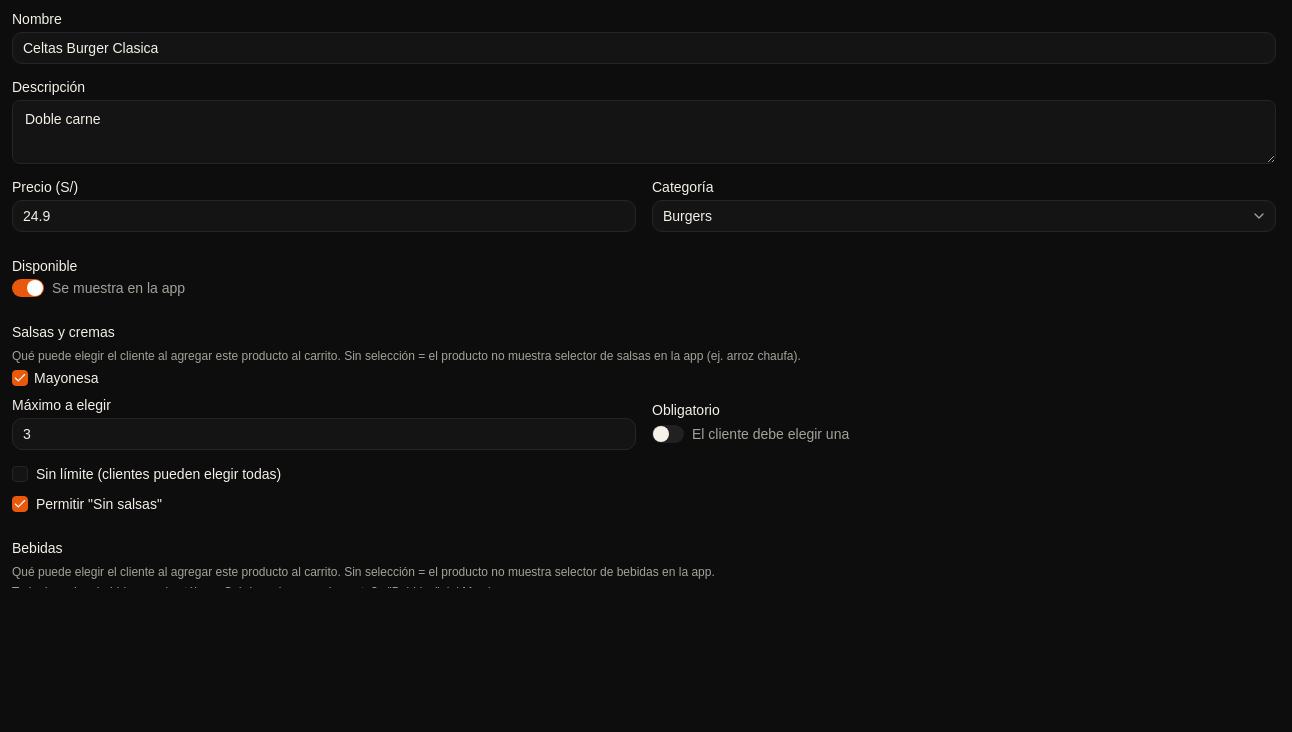
Test: ItemForm - salsas "Sin límite" › alternar el checkbox deshabilita/habilita el input
Step 1. Click the checkbox named "Sin límite (clientes pueden elegir todas)" below "Máximo a elegir" → (20, 474), box [12,466,28,482]
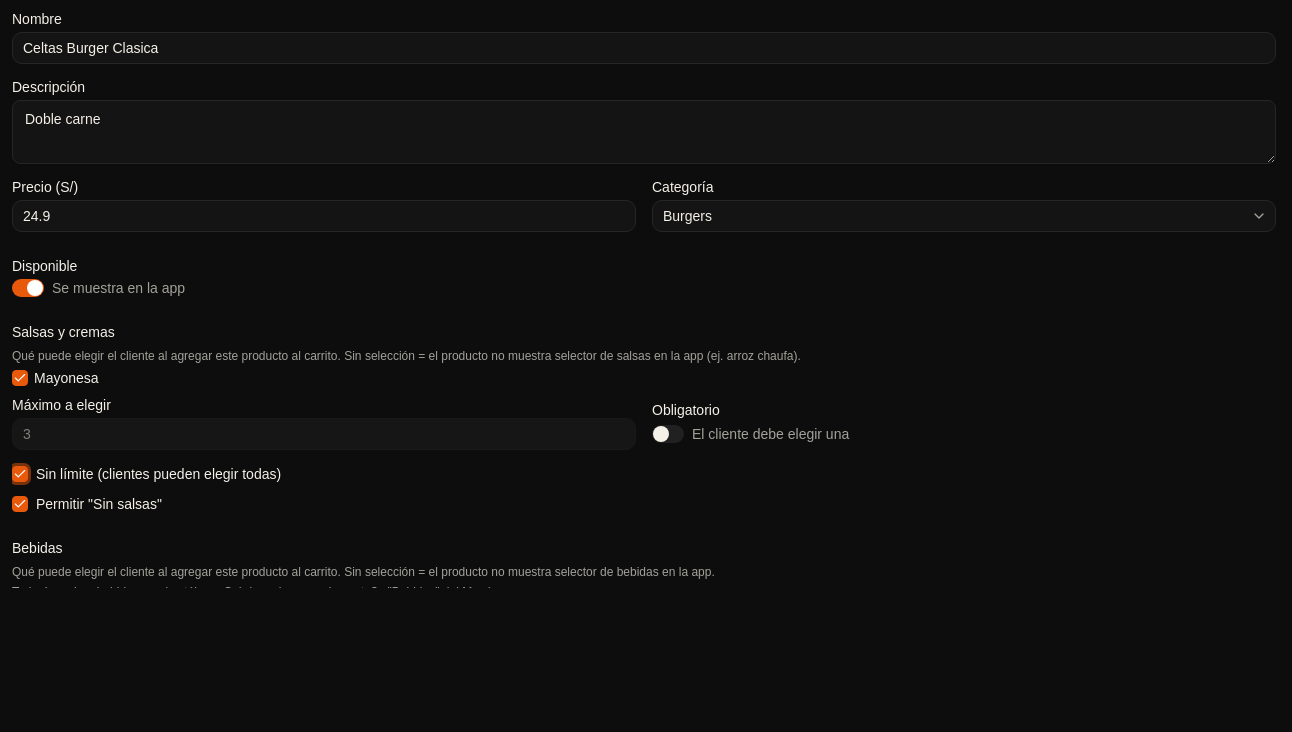
Result: the number field labelled "Máximo a elegir" is disabled at [12,418,636,450]
Step 2. Click the checkbox named "Sin límite (clientes pueden elegir todas)" below "Máximo a elegir" → (20, 474), box [12,466,28,482]
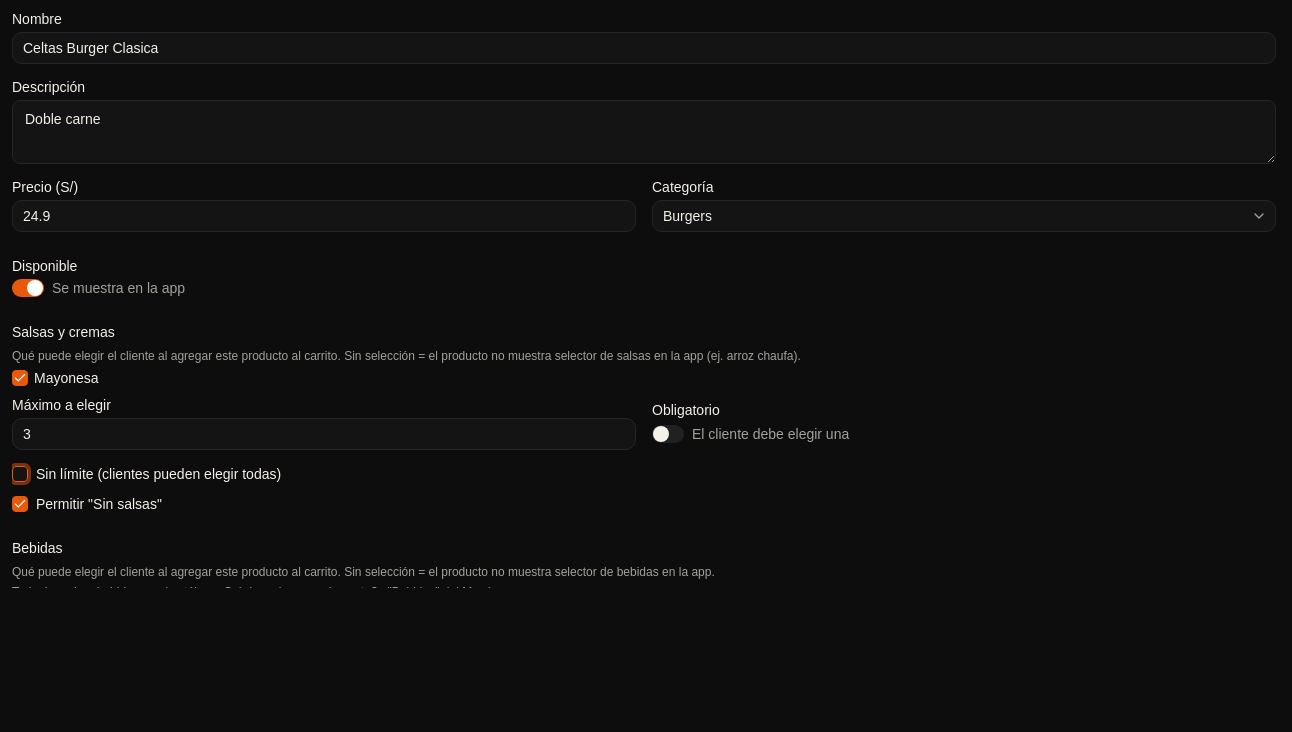
Result: the number field labelled "Máximo a elegir" is enabled at [12,418,636,450]
